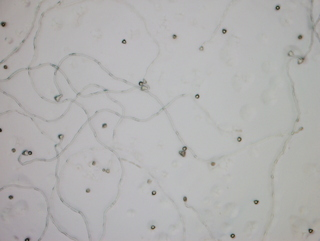germinated: (285, 49, 303, 61), (181, 193, 193, 208), (53, 132, 65, 146), (198, 36, 208, 51), (17, 147, 27, 162), (296, 53, 308, 65), (53, 87, 63, 101), (140, 85, 154, 91)
nongerminated: (193, 92, 203, 103), (305, 225, 314, 235), (149, 188, 158, 198), (148, 223, 158, 232), (227, 230, 237, 239), (5, 192, 15, 201), (0, 19, 8, 30), (273, 2, 282, 11), (83, 185, 92, 194), (144, 176, 153, 185), (296, 32, 305, 40), (251, 198, 260, 206), (220, 27, 229, 35), (235, 134, 243, 143), (99, 120, 107, 129), (9, 146, 17, 155), (209, 159, 217, 167), (1, 62, 9, 70), (179, 145, 188, 152), (170, 32, 178, 39), (120, 37, 128, 44), (178, 151, 187, 157), (105, 167, 112, 174), (89, 159, 97, 165), (27, 149, 33, 156)
